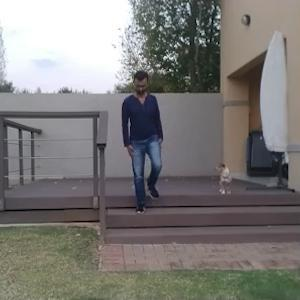follow: (123, 65, 163, 223)
